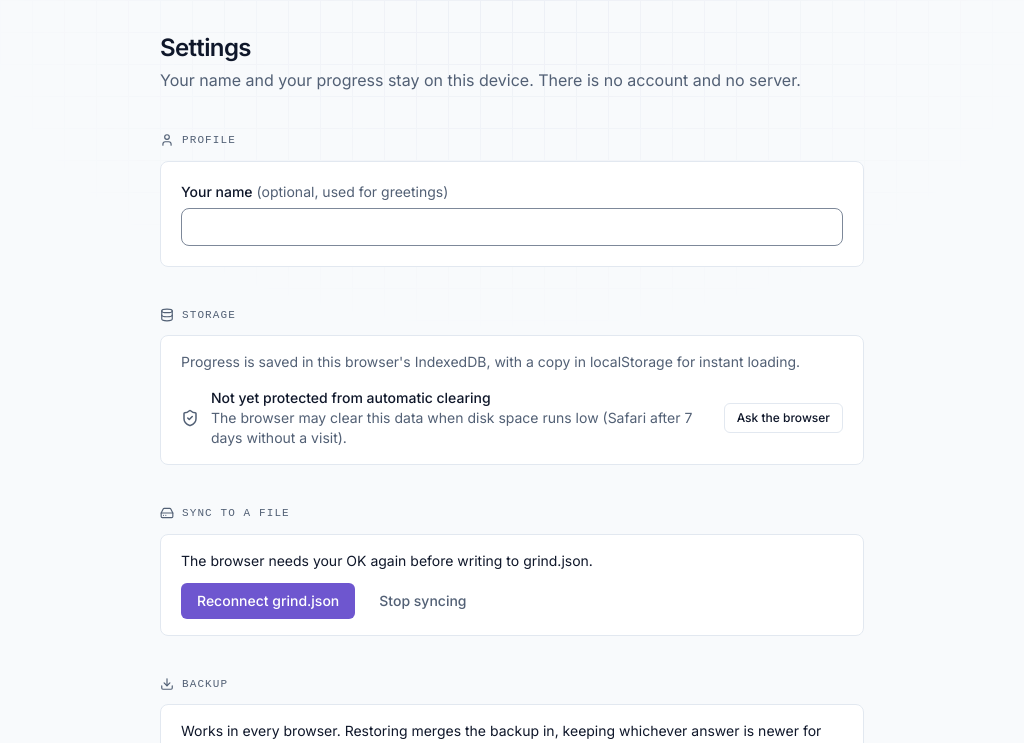
Test: Settings › reconnects a file whose permission lapsed, and explains a refusal
Click the button "Reconnect grind.json" at (268, 600), box [181, 582, 355, 618]
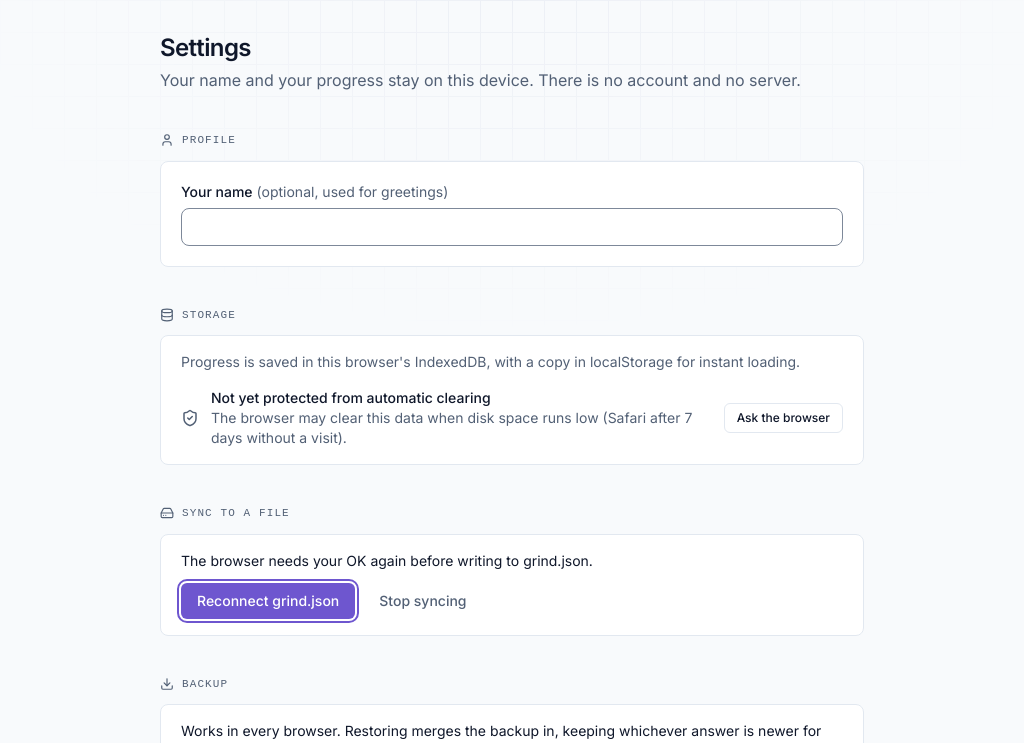
Click the button "Reconnect grind.json" at (268, 600), box [181, 582, 355, 618]
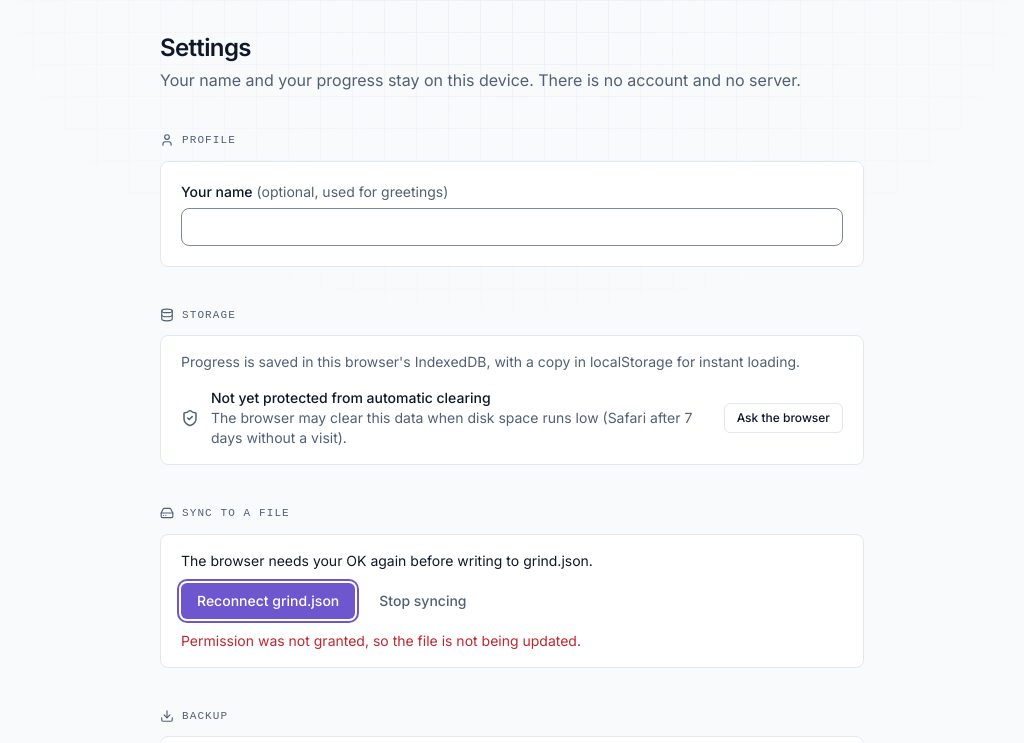
Expected: the message shows "Permission was not granted", [181, 632, 581, 648]
